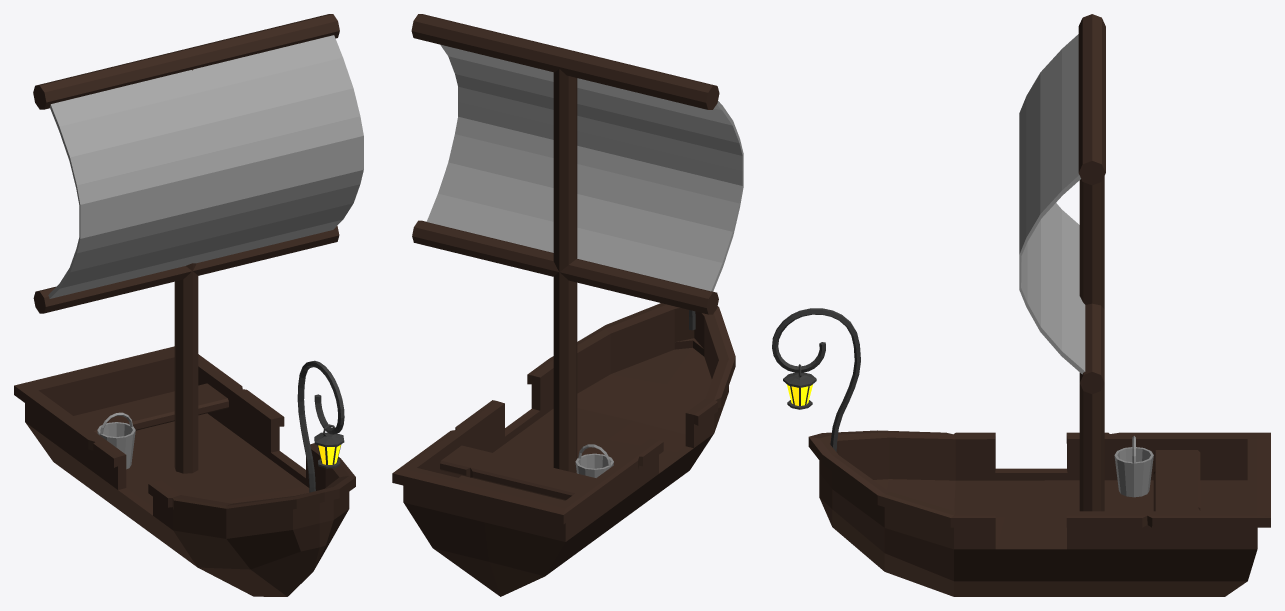
Rendered from Boat(Sail).fbx.
3 renders of one model, left to right at view 1: azimuth 30°, elevation 25°; view 2: azimuth 150°, elevation 25°; view 3: azimuth 270°, elevation 25°, orthographic. The views are drawn at different scales.
Visible parts, largest first — view 1: Plane, Cube, Cylinder.003, Cylinder.001, Cylinder.002, Cylinder, Bucket, Cube.001; view 2: Cube, Plane, Cylinder.001, Cylinder.003, Cylinder.002, Bucket; view 3: Cube, Plane, Cylinder.001, Cylinder.003, Cylinder, Cylinder.002, Bucket, Cube.001.
Boxes of the visible parts, bbox=[...] form: Plane: bbox=[48, 35, 363, 298]; Cube: bbox=[14, 346, 355, 596]; Cylinder.003: bbox=[33, 14, 339, 109]; Cylinder.001: bbox=[174, 68, 198, 473]; Cylinder.002: bbox=[33, 226, 339, 313]; Cylinder: bbox=[297, 360, 344, 492]; Bucket: bbox=[97, 412, 135, 469]; Cube.001: bbox=[314, 424, 344, 468]; Cube: bbox=[392, 303, 735, 596]; Plane: bbox=[426, 44, 743, 291]; Cylinder.001: bbox=[553, 69, 577, 472]; Cylinder.003: bbox=[411, 14, 719, 109]; Cylinder.002: bbox=[412, 220, 718, 314]; Bucket: bbox=[575, 444, 613, 477]; Cube: bbox=[808, 430, 1270, 596]; Plane: bbox=[1019, 34, 1085, 374]; Cylinder.001: bbox=[1079, 176, 1104, 511]; Cylinder.003: bbox=[1078, 14, 1105, 185]; Cylinder: bbox=[772, 308, 860, 451]; Cylinder.002: bbox=[1079, 303, 1104, 394]; Bucket: bbox=[1114, 436, 1153, 497]; Cube.001: bbox=[783, 364, 816, 409].
Bounding box in the file's own units: 883 × 1430 × 1269.
